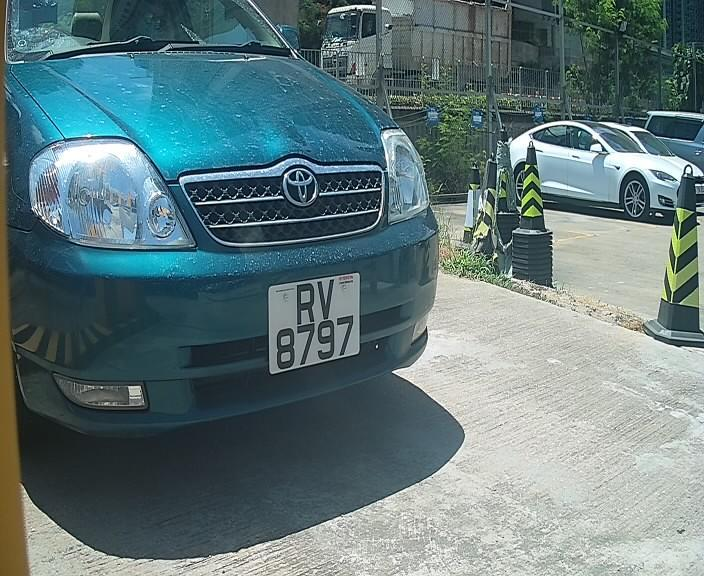privatecar: (10, 11, 447, 466)
